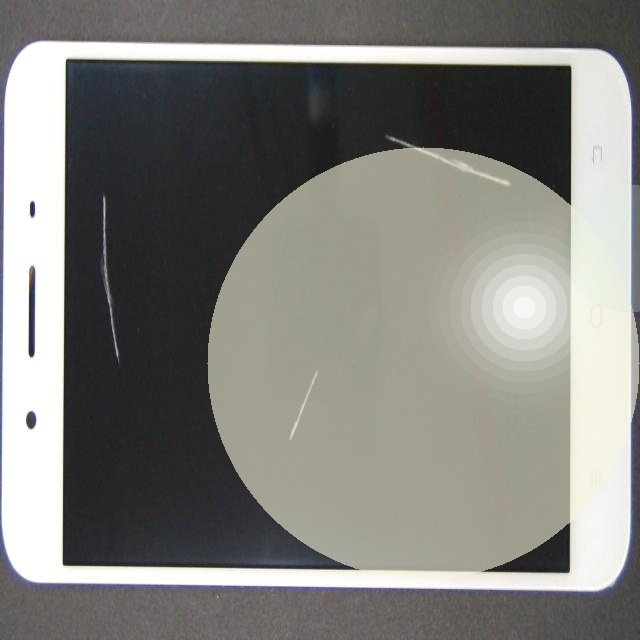scratch: (166, 144, 448, 587), (42, 0, 149, 372), (339, 127, 640, 244)
